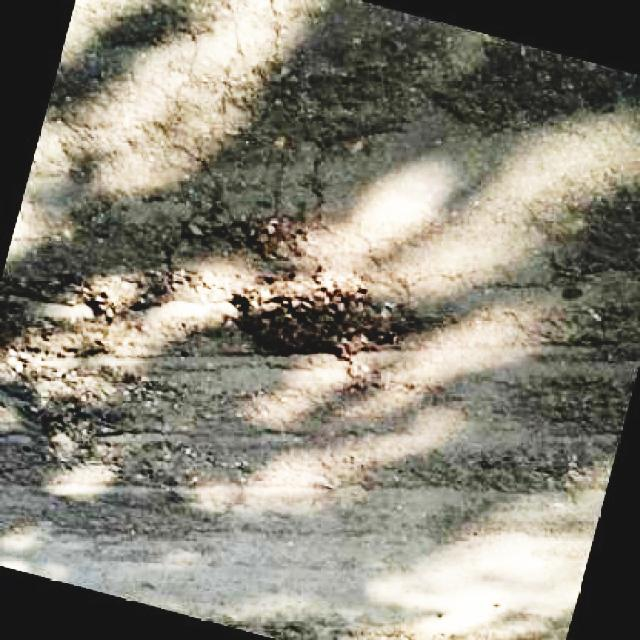pothole: (3, 257, 149, 466), (240, 257, 412, 352), (434, 40, 611, 118), (304, 43, 416, 148), (532, 179, 637, 286), (222, 200, 324, 266)
